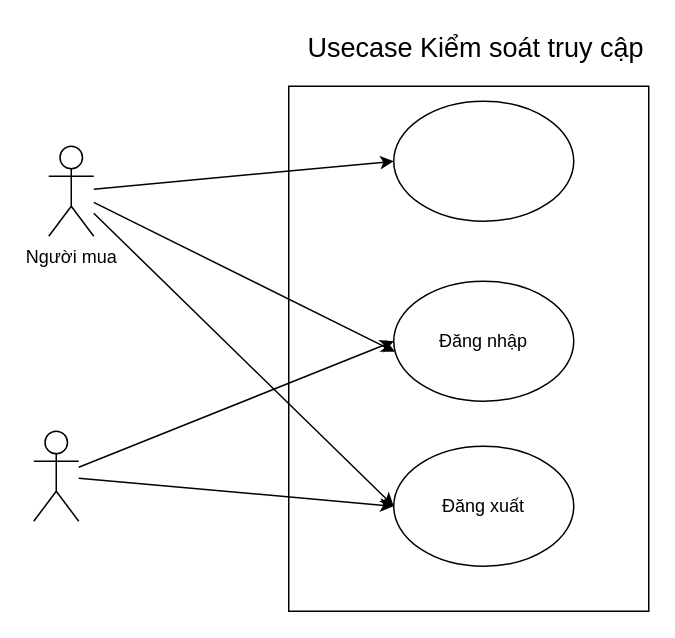
Some shapes in this 675 by 638 pixel diagram are drawn without their labels. The centre of each missing label's shape, as x and y in pixels:
"Admin" belongs at (x=55, y=475).
"Đăng ký" belongs at (x=483, y=160).
